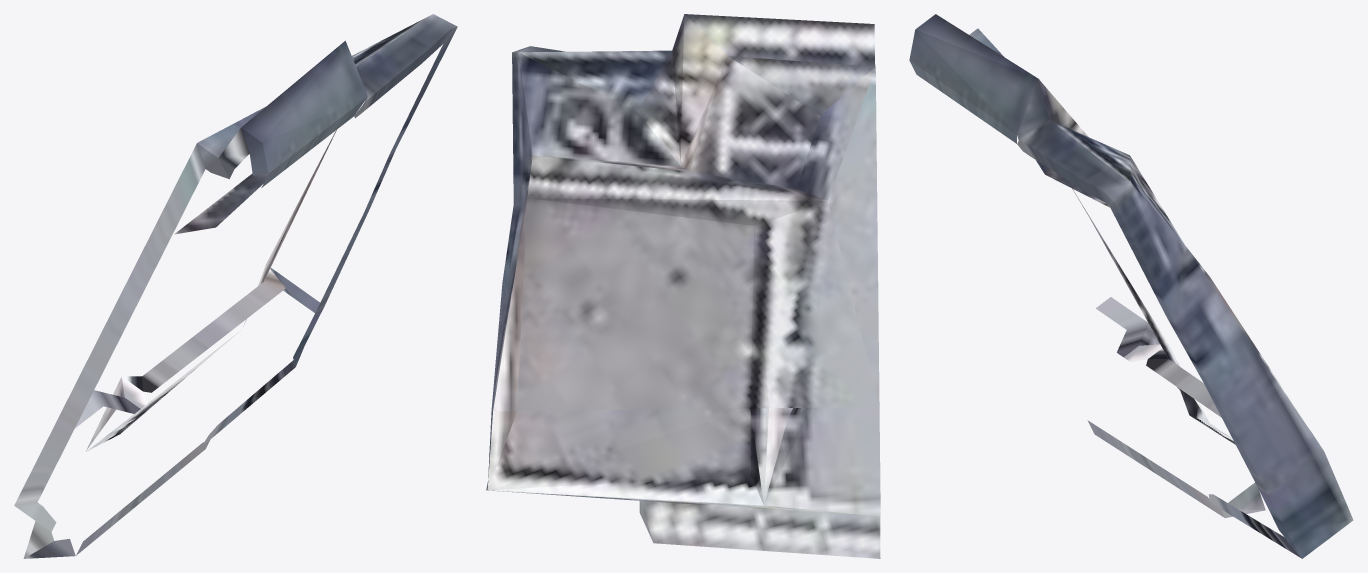
3 views of the same model, side by side, from view 1: azimuth 30°, elevation 25°; view 2: azimuth 150°, elevation 25°; view 3: azimuth 270°, elevation 25° (orthographic). The views are drawn at different scales.
Bounding box in the file's own units: 22.55 × 25.03 × 20.69.
Materials: 1 (1 with a texture image).
